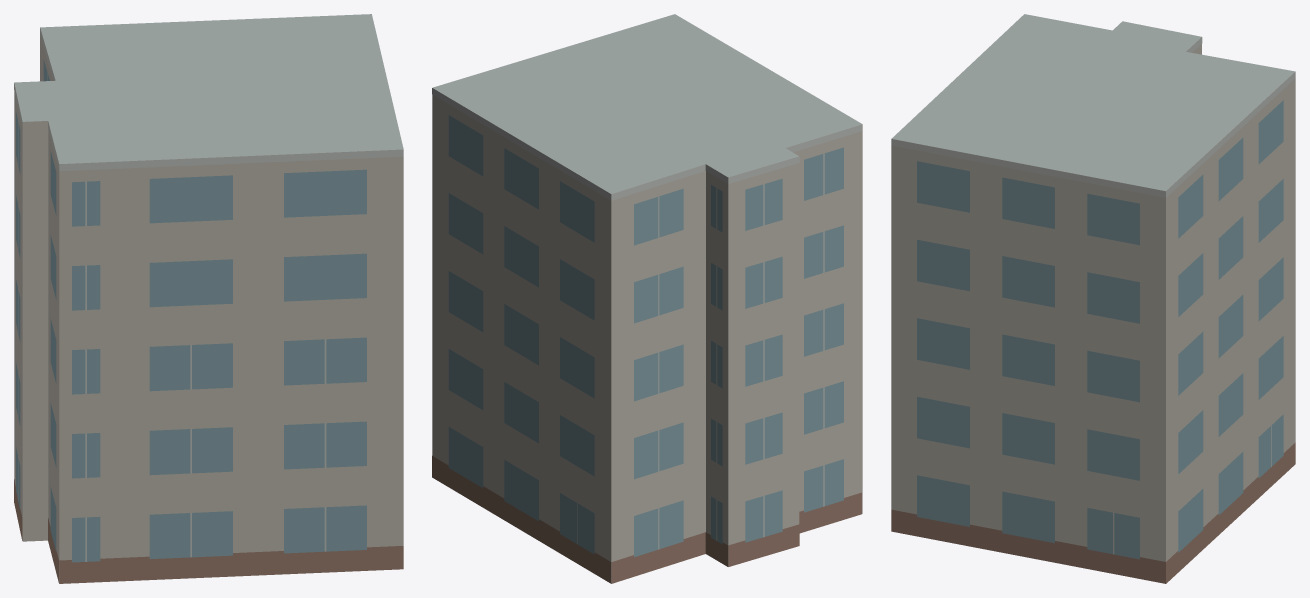
File: survey-upis-32534298.glb
The picture shows the model from 3 angles, left to right: view 1: azimuth 30°, elevation 25°; view 2: azimuth 150°, elevation 25°; view 3: azimuth 270°, elevation 25°; orthographic projection. The views are drawn at different scales.
Visible parts, largest first — view 1: survey-upis-32534298.tmp; view 2: survey-upis-32534298.tmp; view 3: survey-upis-32534298.tmp.
Part boxes in pixels (x1,y1,x2,y2): survey-upis-32534298.tmp: (14, 14, 403, 583); survey-upis-32534298.tmp: (432, 14, 862, 583); survey-upis-32534298.tmp: (891, 14, 1295, 583).
Size of the model in its own units: 13.97 by 14.42 by 13.46.
